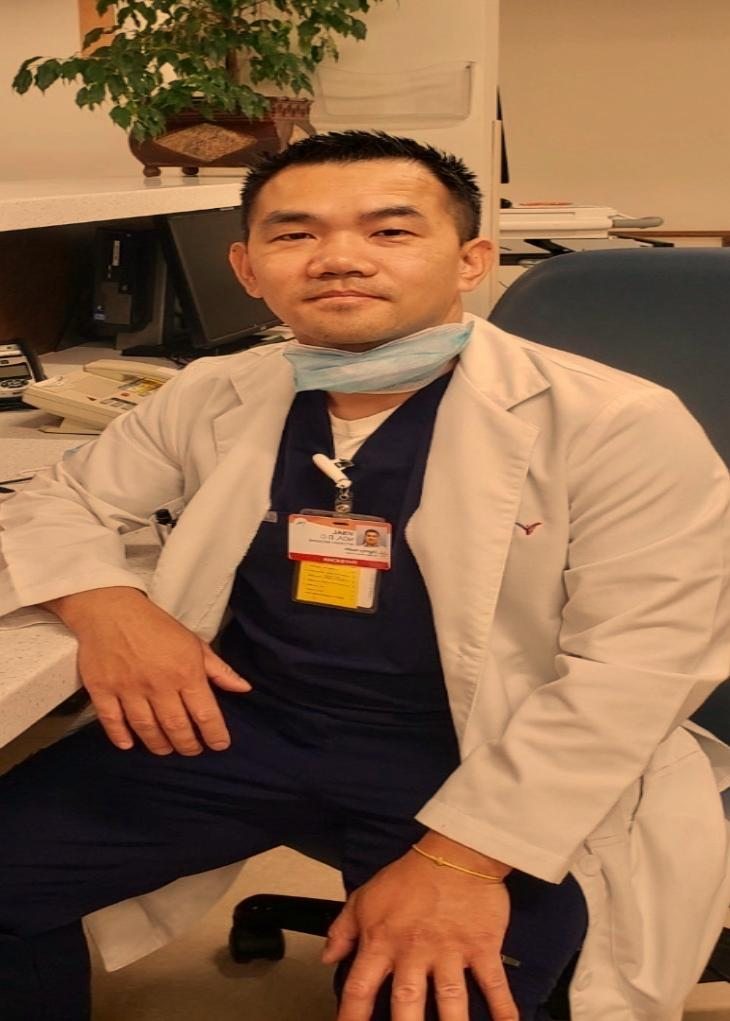mask_weared_incorrect: (233, 130, 494, 366)
